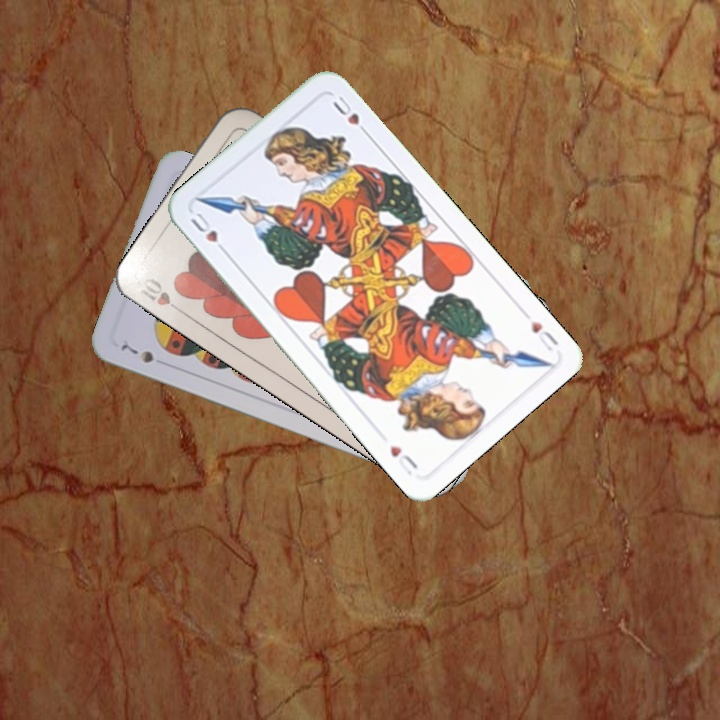H10: (132, 274, 188, 318)
HU: (186, 208, 231, 258), (526, 316, 561, 354)
S7: (116, 339, 156, 366)
